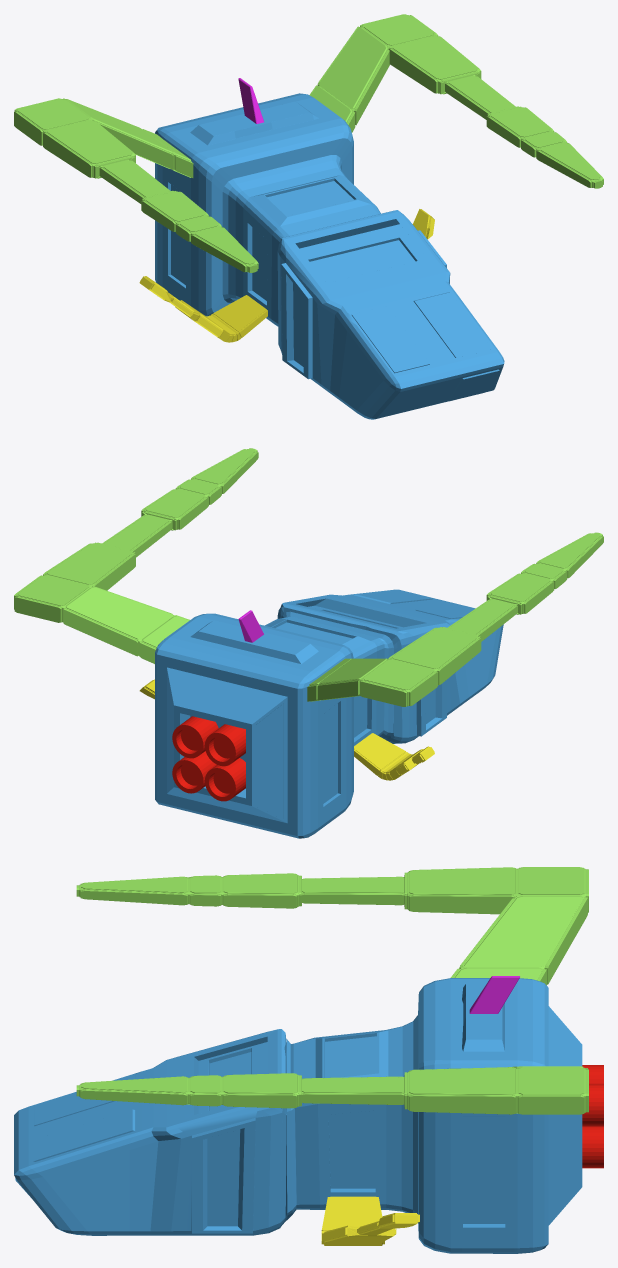
File: spaceship edit.fbx
3 views of the same model, one above another, from view 1: azimuth 30°, elevation 25°; view 2: azimuth 150°, elevation 25°; view 3: azimuth 270°, elevation 25° (orthographic). The views are drawn at different scales.
Visible parts, largest first — view 1: Cube.001, Cube.002, Cube.003, Cube.004; view 2: Cube.001, Cube.002, Cylinder.002, Cube.003, Cube.004; view 3: Cube.001, Cube.002, Cube.003, Cylinder.002, Cube.004.
Part boxes in pixels (x1,y1,x2,y2): Cube.001: [155, 93, 504, 419]; Cube.002: [14, 14, 603, 272]; Cube.003: [139, 209, 434, 342]; Cube.004: [238, 78, 263, 123]; Cube.001: [155, 589, 503, 838]; Cube.002: [14, 448, 603, 706]; Cylinder.002: [172, 716, 245, 801]; Cube.003: [139, 679, 434, 780]; Cube.004: [238, 610, 263, 642]; Cube.001: [14, 978, 582, 1253]; Cube.002: [76, 867, 588, 1114]; Cube.003: [321, 1196, 419, 1245]; Cylinder.002: [582, 1065, 603, 1168]; Cube.004: [469, 976, 519, 1013].
Bounding box in the file's own units: 400 × 192 × 434.
